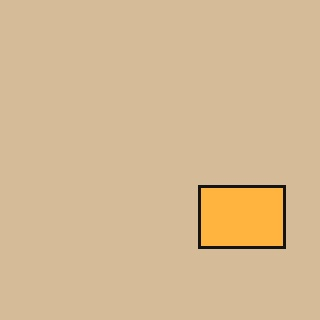square_target: (198, 186, 286, 248)
